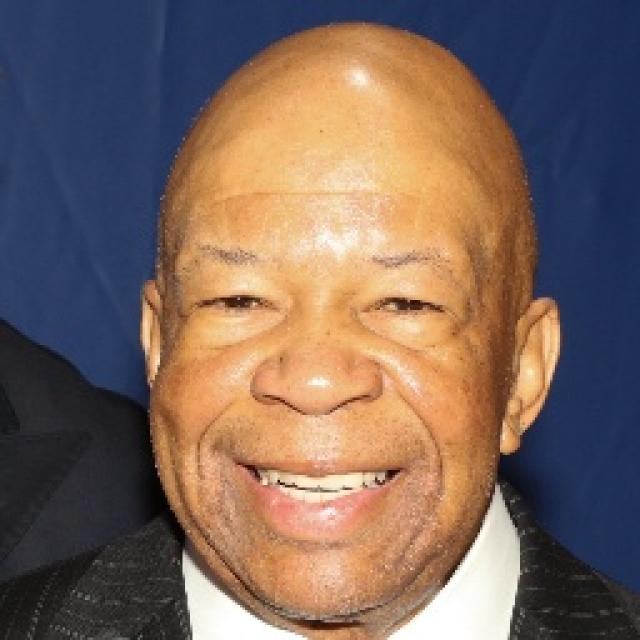earlobe: (498, 296, 562, 454), (140, 281, 162, 388)
